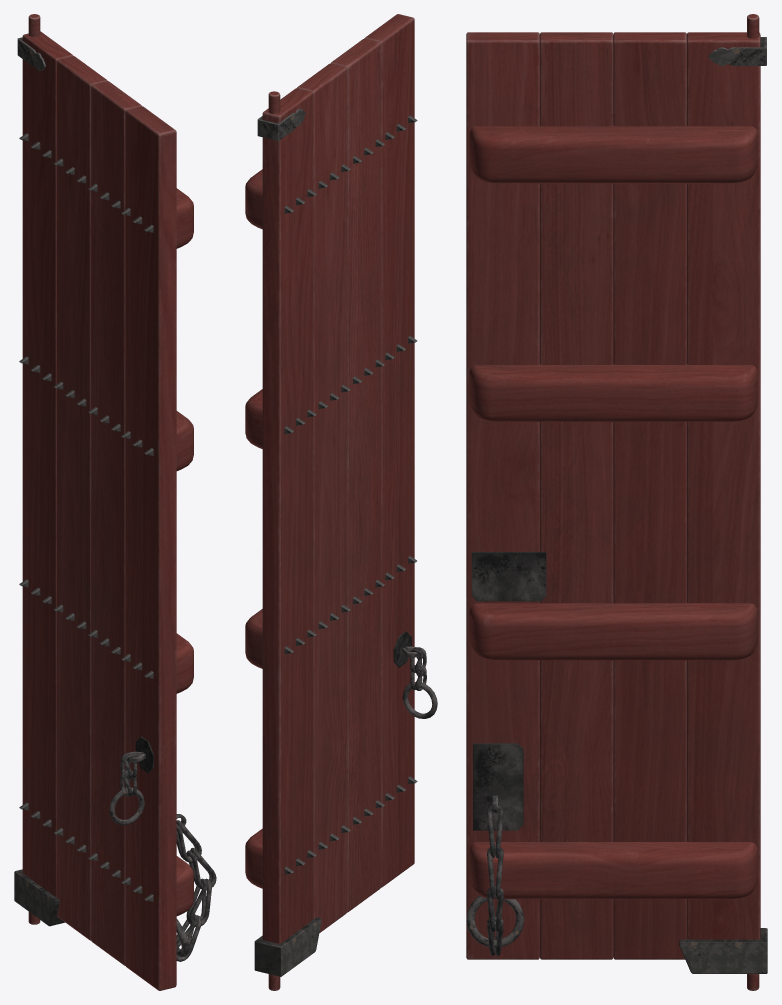
File: SM_SJM_DoorB_02.fbx
3 renders of one model, left to right at view 1: azimuth 30°, elevation 25°; view 2: azimuth 150°, elevation 25°; view 3: azimuth 270°, elevation 25°, orthographic. The views are drawn at different scales.
Parts seen in each view (by area): view 1: SM_SJM_DoorB_02; view 2: SM_SJM_DoorB_02; view 3: SM_SJM_DoorB_02.
Part boxes in pixels (x1,y1,x2,y2): SM_SJM_DoorB_02: (14,14,216,990); SM_SJM_DoorB_02: (245,14,437,990); SM_SJM_DoorB_02: (466,14,767,990).
Bounding box in the file's own units: 47.89 × 111 × 394.
Materials: 4 (4 with a texture image).
